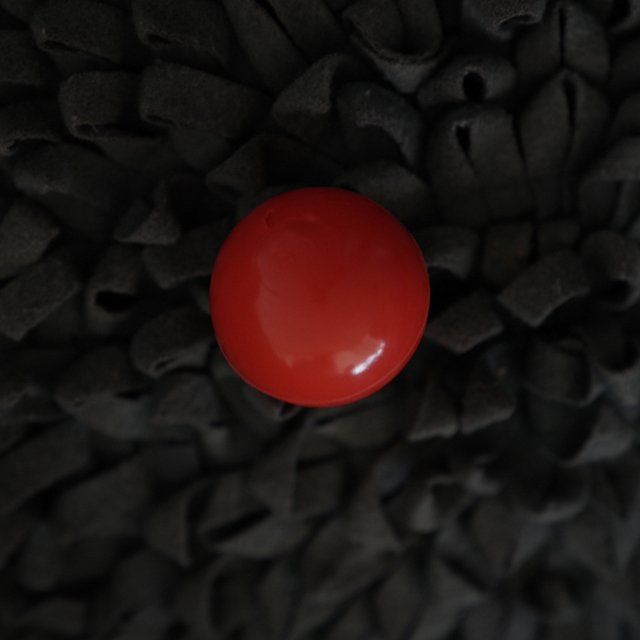Ball: (217, 188, 433, 406)
